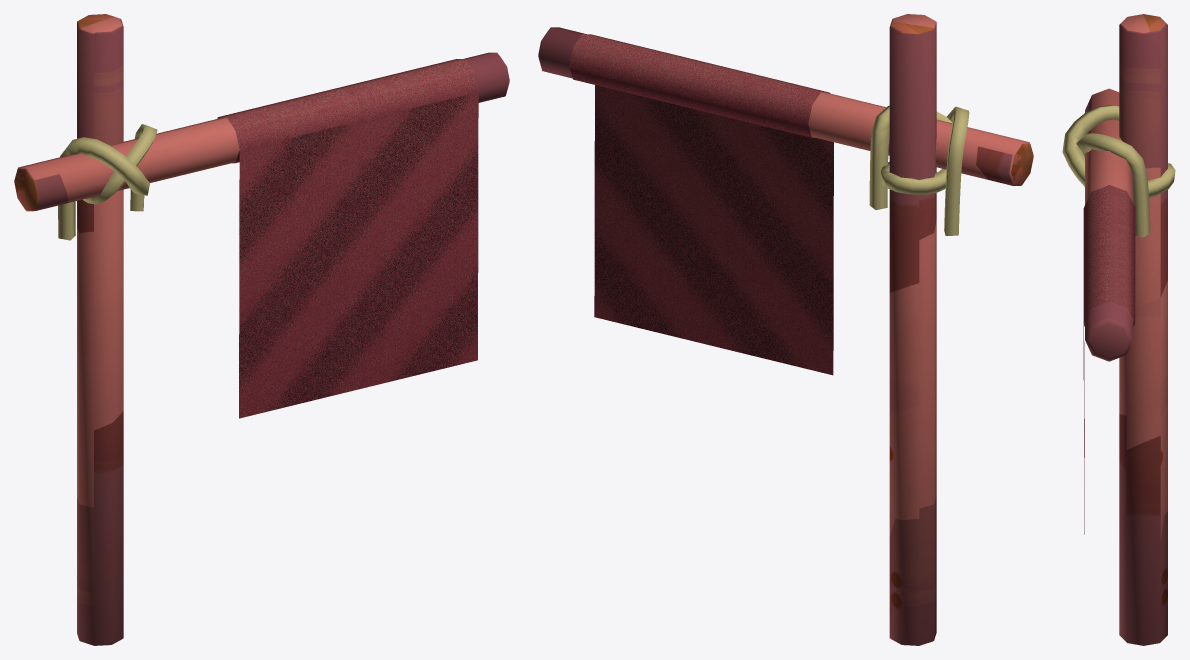
The model's file is Signpost.fbx.
The picture shows the model from 3 angles, left to right: view 1: azimuth 30°, elevation 25°; view 2: azimuth 150°, elevation 25°; view 3: azimuth 270°, elevation 25°; orthographic projection.
Parts seen in each view (by area): view 1: Signpost; view 2: Signpost; view 3: Signpost.
Part boxes in pixels (box(x1,y1,x2,y2)): Signpost: box(14, 14, 509, 645); Signpost: box(538, 14, 1033, 645); Signpost: box(1062, 14, 1175, 645).
Size of the model in its own units: 29 by 140 by 173.
